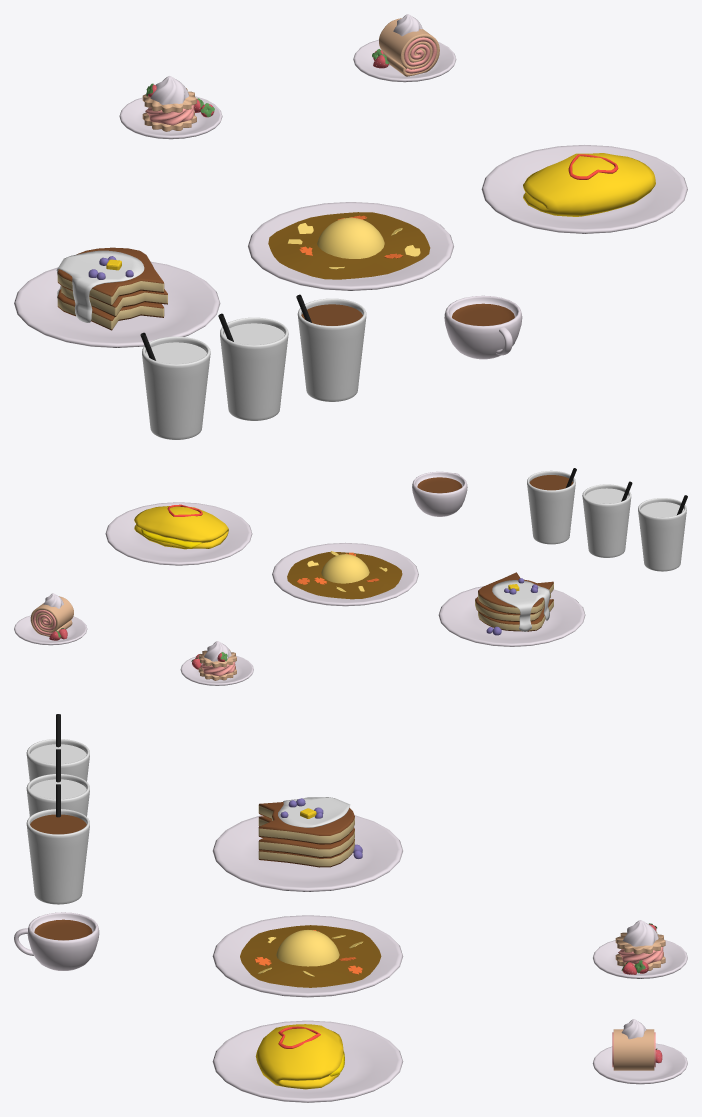
The model's file is Foods (1).fbx.
The picture shows the model from 3 angles, top to bottom: view 1: azimuth 30°, elevation 25°; view 2: azimuth 150°, elevation 25°; view 3: azimuth 270°, elevation 25°; orthographic projection. The views are drawn at different scales.
Parts seen in each view (by area): view 1: Pancake, Omurice, Plate.004, BlueSoda, Ice Coffee, PinkSoda, RollCake, SakuraCake, Hot Coffee; view 2: Pancake, Omurice, Plate.004, PinkSoda, Ice Coffee, BlueSoda, RollCake, SakuraCake, Hot Coffee; view 3: Pancake, Plate.004, Omurice, Ice Coffee, RollCake, SakuraCake, Hot Coffee, PinkSoda, BlueSoda.
Part boxes in pixels (left/top/right/bottom): Pancake: left=14, top=247, right=220, bottom=347; Omurice: left=481, top=145, right=687, bottom=233; Plate.004: left=248, top=202, right=453, bottom=290; BlueSoda: left=140, top=332, right=210, bottom=439; Ice Coffee: left=296, top=294, right=366, bottom=401; PinkSoda: left=218, top=313, right=288, bottom=420; RollCake: left=353, top=14, right=456, bottom=82; SakuraCake: left=119, top=76, right=222, bottom=139; Hot Coffee: left=444, top=295, right=522, bottom=359; Pancake: left=438, top=572, right=585, bottom=646; Omurice: left=105, top=502, right=252, bottom=565; Plate.004: left=272, top=542, right=418, bottom=606; PinkSoda: left=582, top=481, right=632, bottom=557; Ice Coffee: left=527, top=468, right=576, bottom=544; BlueSoda: left=638, top=495, right=687, bottom=571; RollCake: left=14, top=593, right=87, bottom=645; SakuraCake: left=180, top=641, right=253, bottom=685; Hot Coffee: left=412, top=471, right=467, bottom=516; Pancake: left=212, top=797, right=402, bottom=891; Plate.004: left=212, top=915, right=403, bottom=997; Omurice: left=212, top=1020, right=403, bottom=1102; Ice Coffee: left=26, top=784, right=89, bottom=904; RollCake: left=592, top=1019, right=687, bottom=1084; SakuraCake: left=593, top=920, right=687, bottom=978; Hot Coffee: left=14, top=912, right=99, bottom=970; PinkSoda: left=26, top=749, right=89, bottom=816; BlueSoda: left=26, top=714, right=89, bottom=781.
Size of the model in its own units: 858 by 129 by 811.
